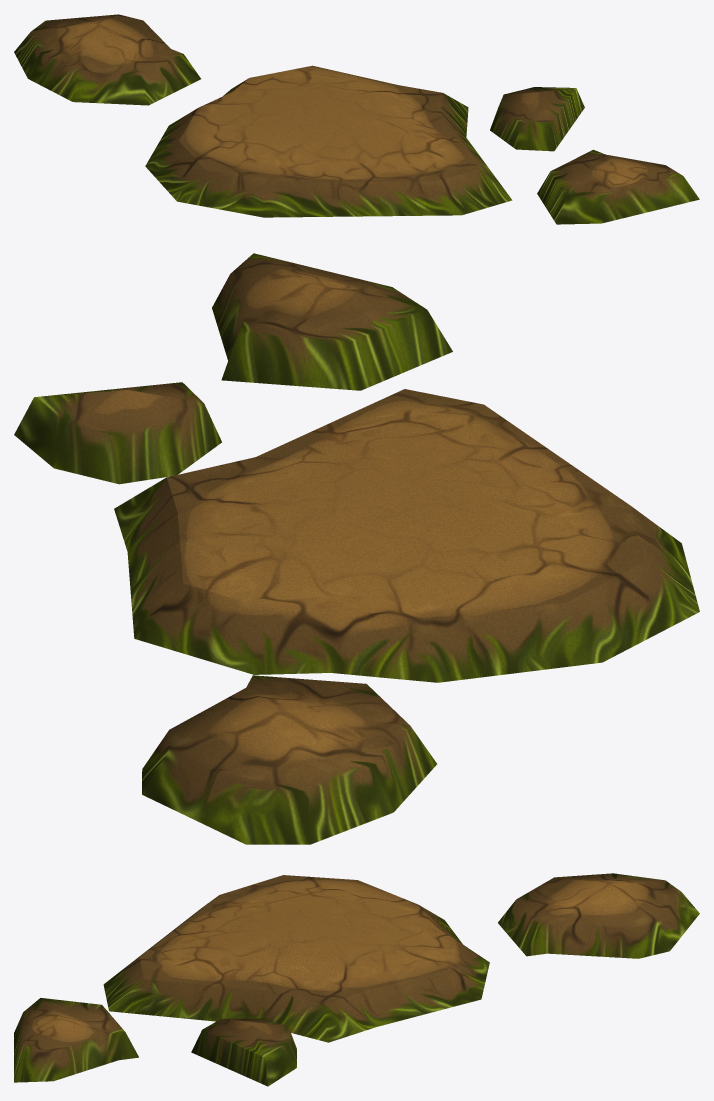
The model's file is SteppingStoneCluster2.obj.
3 renders of one model, top to bottom at view 1: azimuth 30°, elevation 25°; view 2: azimuth 150°, elevation 25°; view 3: azimuth 270°, elevation 25°, orthographic. The views are drawn at different scales.
Visible parts, largest first — view 1: Mesh; view 2: Mesh; view 3: Mesh.
Boxes of the visible parts, x1=… form: Mesh: x1=14, y1=14, x2=699, y2=224; Mesh: x1=14, y1=253, x2=699, y2=844; Mesh: x1=14, y1=873, x2=699, y2=1086.
Size of the model in its own units: 2 by 0.2018 by 2.86.
